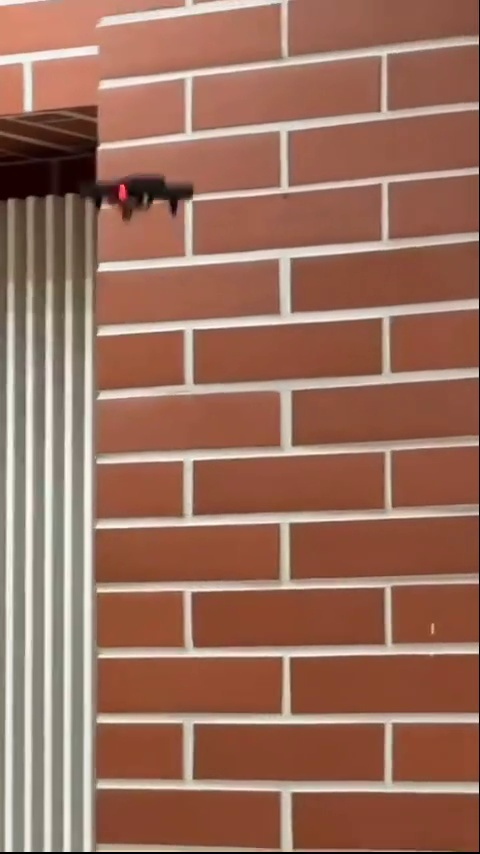drone: (83, 174, 200, 217)
